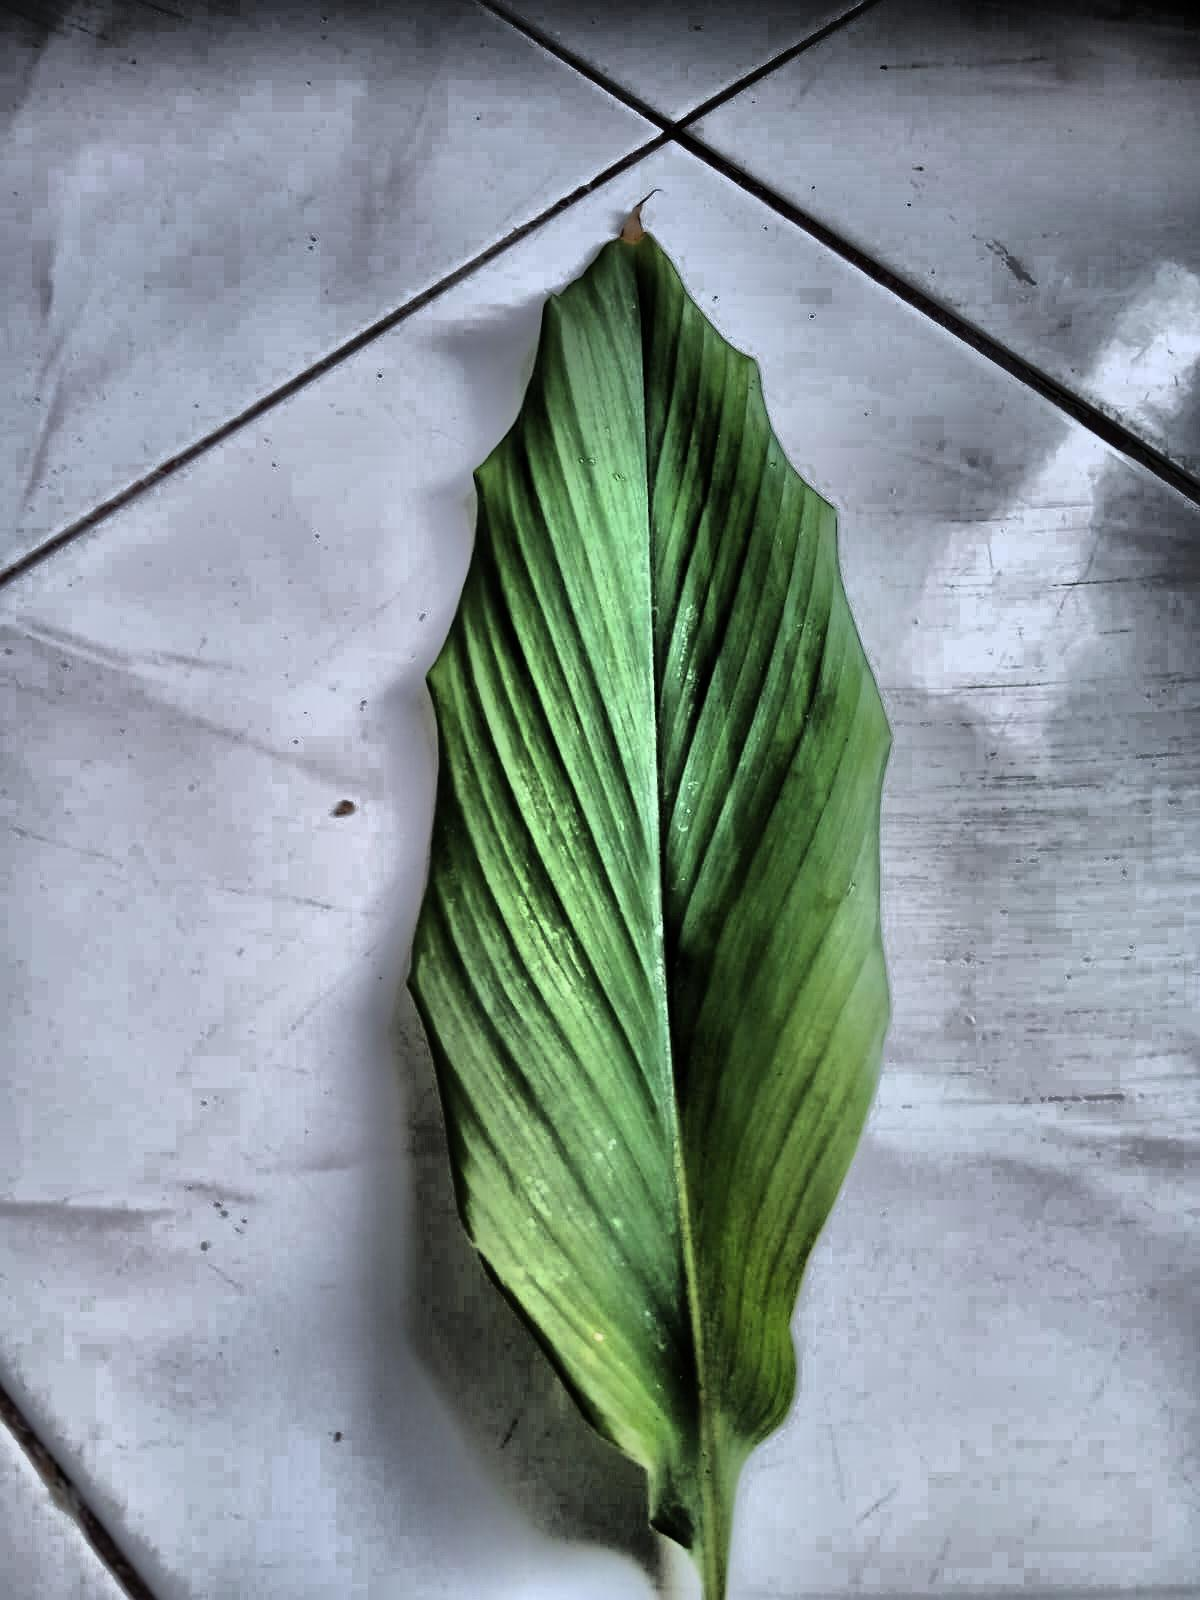daun kunyit: (411, 233, 890, 1599)
